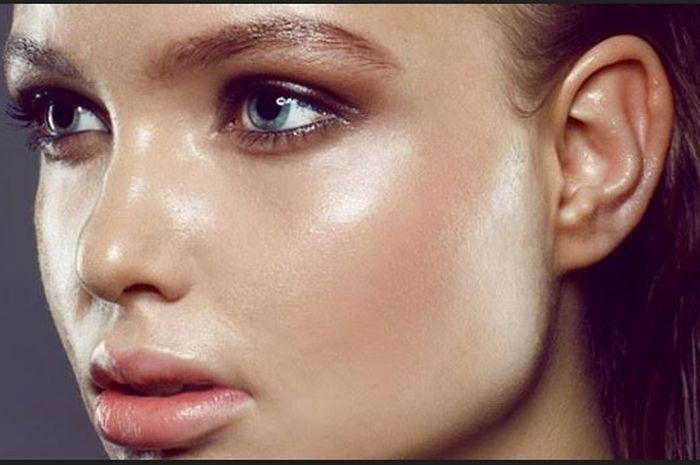Oily-Skin: (238, 149, 452, 358), (82, 161, 145, 273)
